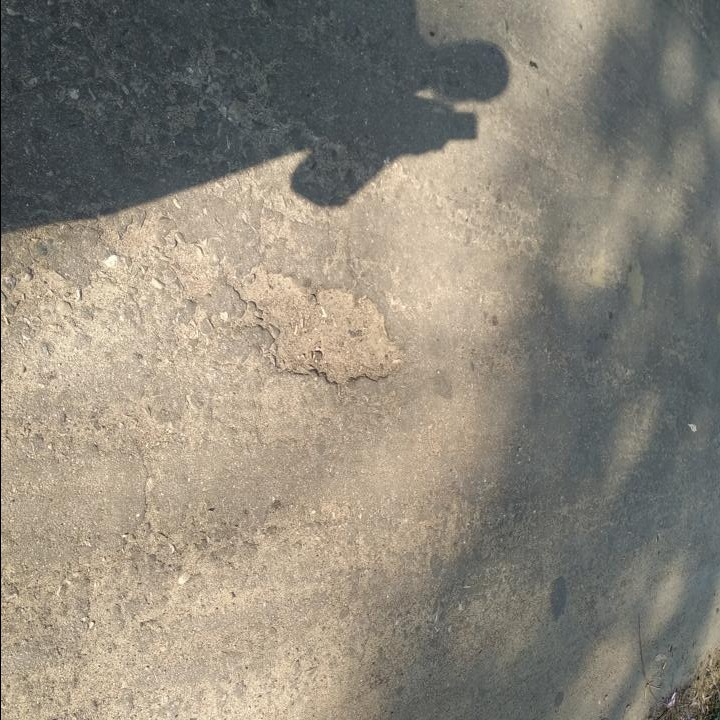pothole: (234, 261, 407, 390)
